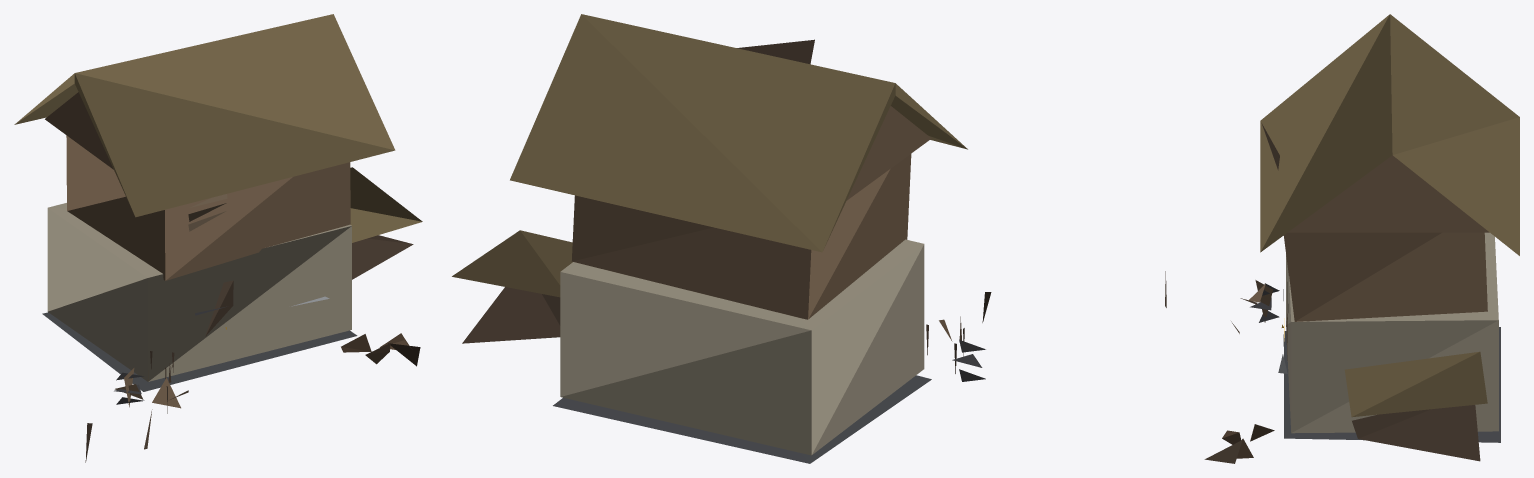
File: bill_ferny_house_lod2.glb
3 views of the same model, side by side, from view 1: azimuth 30°, elevation 25°; view 2: azimuth 150°, elevation 25°; view 3: azimuth 270°, elevation 25° (orthographic). The views are drawn at different scales.
Visible parts, largest first — view 1: bill_ferny_house_lod2; view 2: bill_ferny_house_lod2; view 3: bill_ferny_house_lod2.
Part boxes in pixels (x1,y1,x2,y2): bill_ferny_house_lod2: (14, 14, 422, 462); bill_ferny_house_lod2: (452, 14, 991, 463); bill_ferny_house_lod2: (1165, 14, 1519, 463).
Size of the model in its own units: 11.09 by 7.3 by 7.56.
